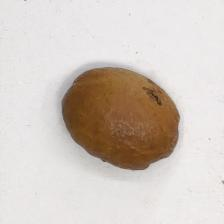NG: (136, 73, 168, 107)
